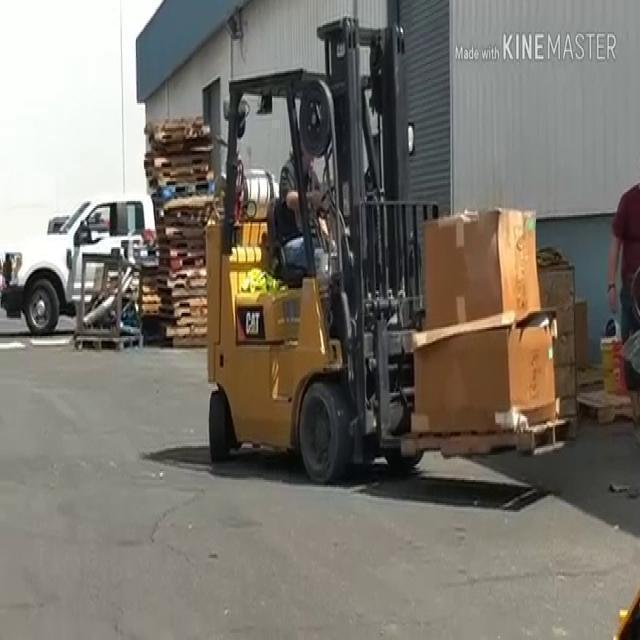forklift: (192, 11, 445, 507)
